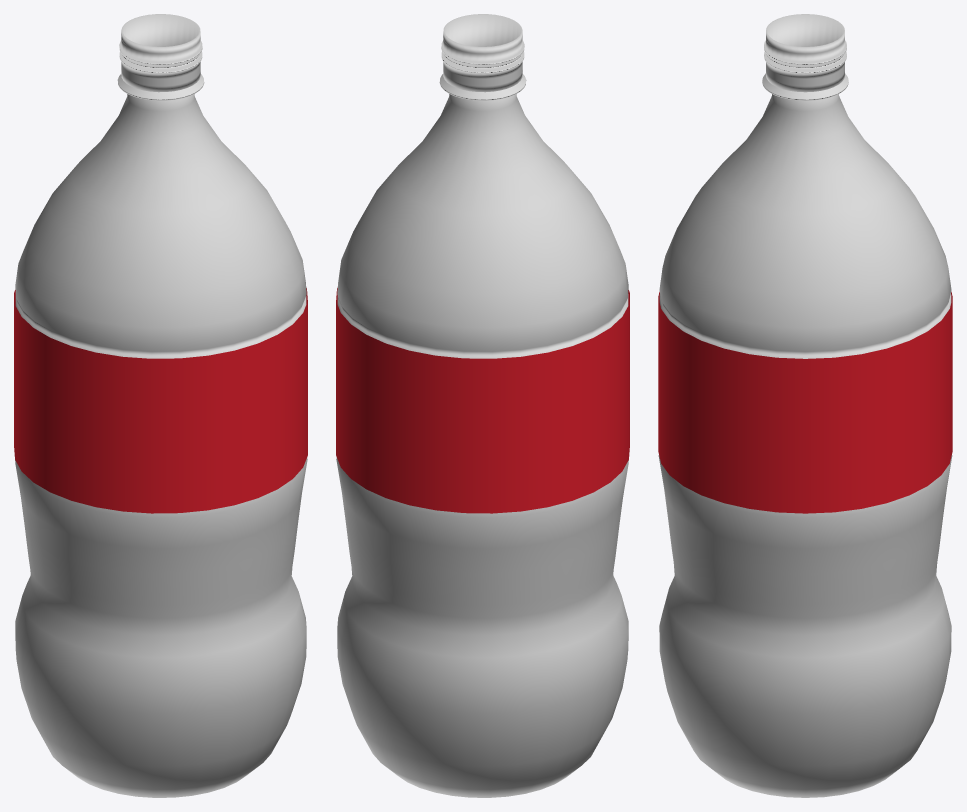
The model's file is PET.fbx.
3 views of the same model, side by side, from view 1: azimuth 30°, elevation 25°; view 2: azimuth 150°, elevation 25°; view 3: azimuth 270°, elevation 25° (orthographic).
Parts seen in each view (by area): view 1: 円柱, 円柱.001; view 2: 円柱, 円柱.001; view 3: 円柱, 円柱.001.
Boxes of the visible parts, left/top/right/bottom form: 円柱: left=15, top=14, right=307, bottom=797; 円柱.001: left=14, top=288, right=307, bottom=513; 円柱: left=336, top=14, right=628, bottom=797; 円柱.001: left=336, top=288, right=629, bottom=513; 円柱: left=658, top=14, right=952, bottom=797; 円柱.001: left=658, top=292, right=952, bottom=513.
Bounding box in the file's own units: 178 × 486 × 178.
